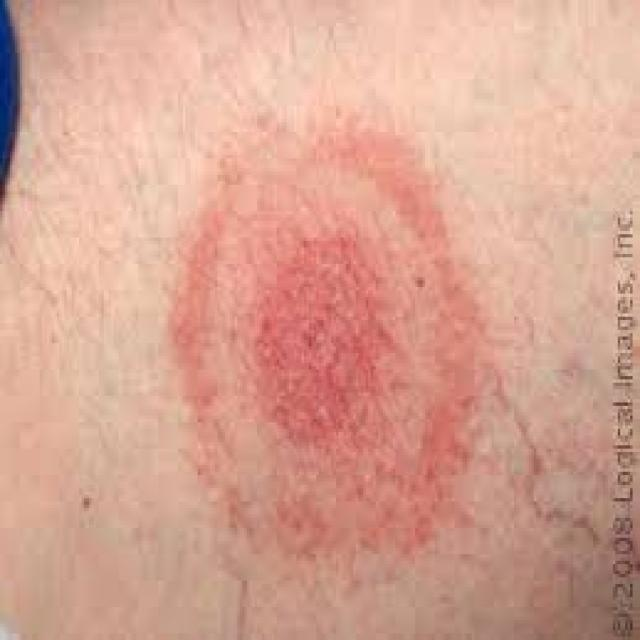kene: (159, 95, 522, 611)
